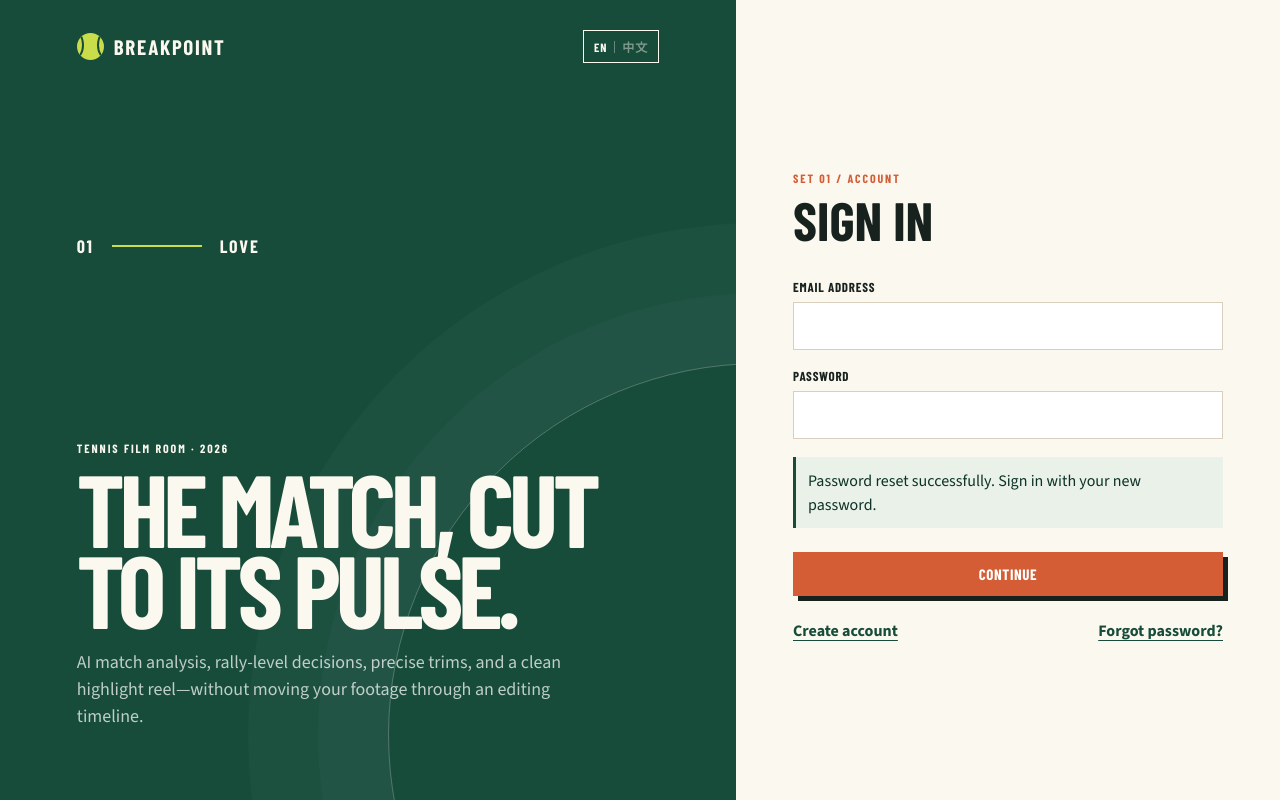
Scenario: AuthForm password confirmation › clears the success notice when sign-in starts
Type "player@example.com" into the field labelled "Email address".
click(1008, 326); type("player@example.com")  # box [793,302,1223,350]
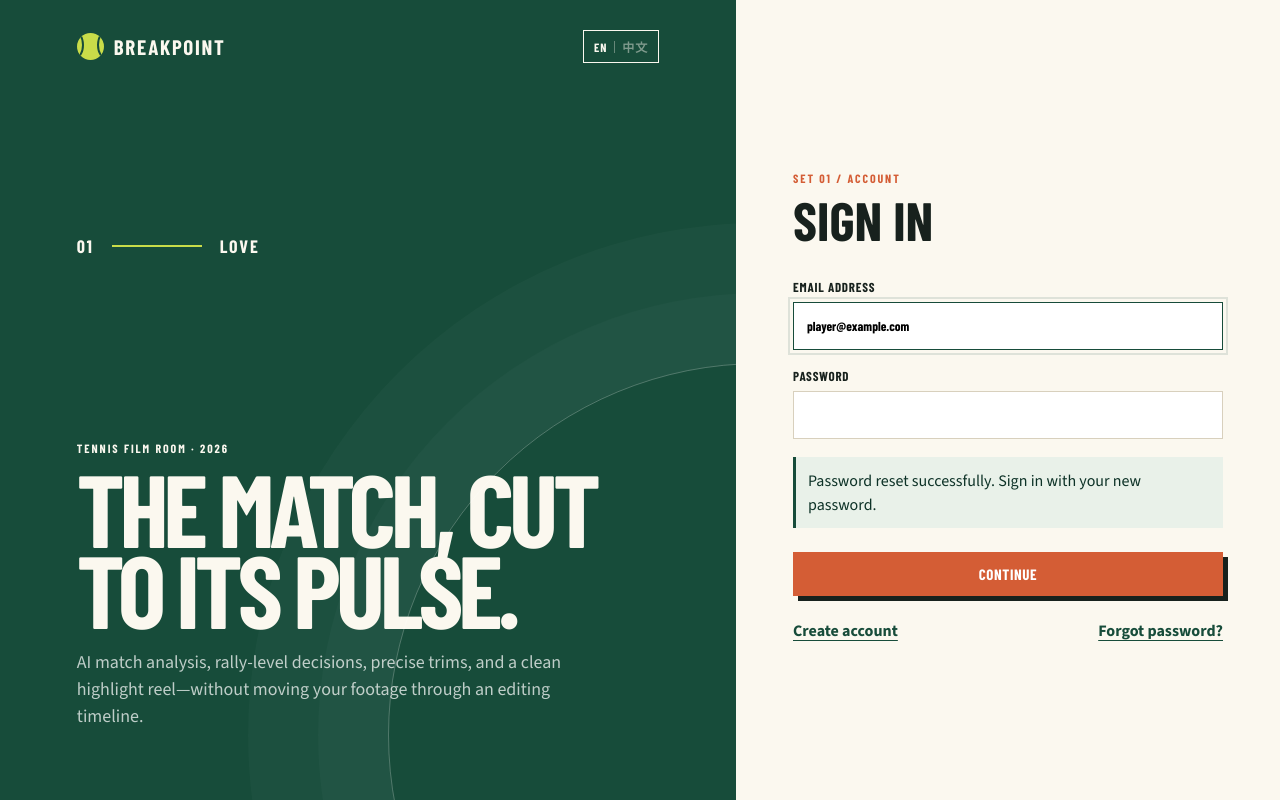
Type "password123" into the password field labelled "Password".
click(1008, 415); type("password123")  # box [793,391,1223,439]
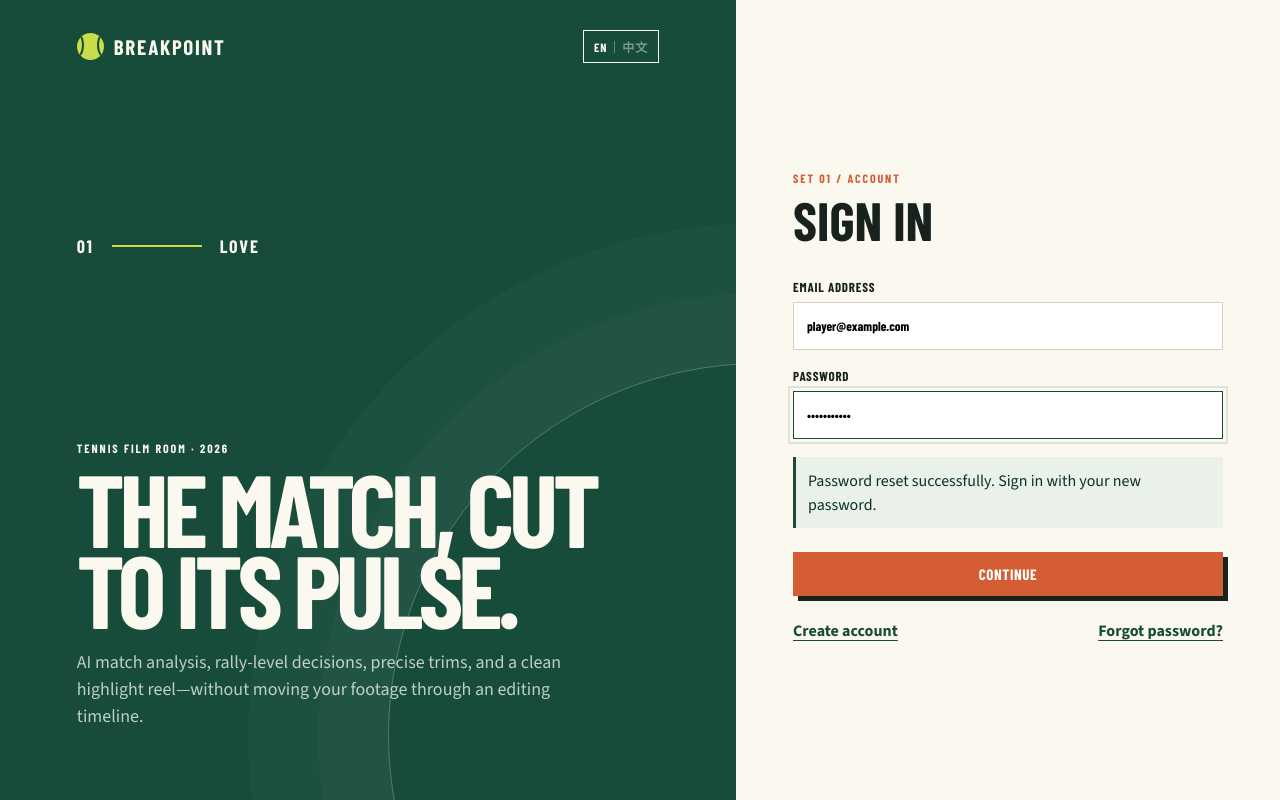
Click the button "Continue".
click(1008, 574)  # box [793,552,1223,596]
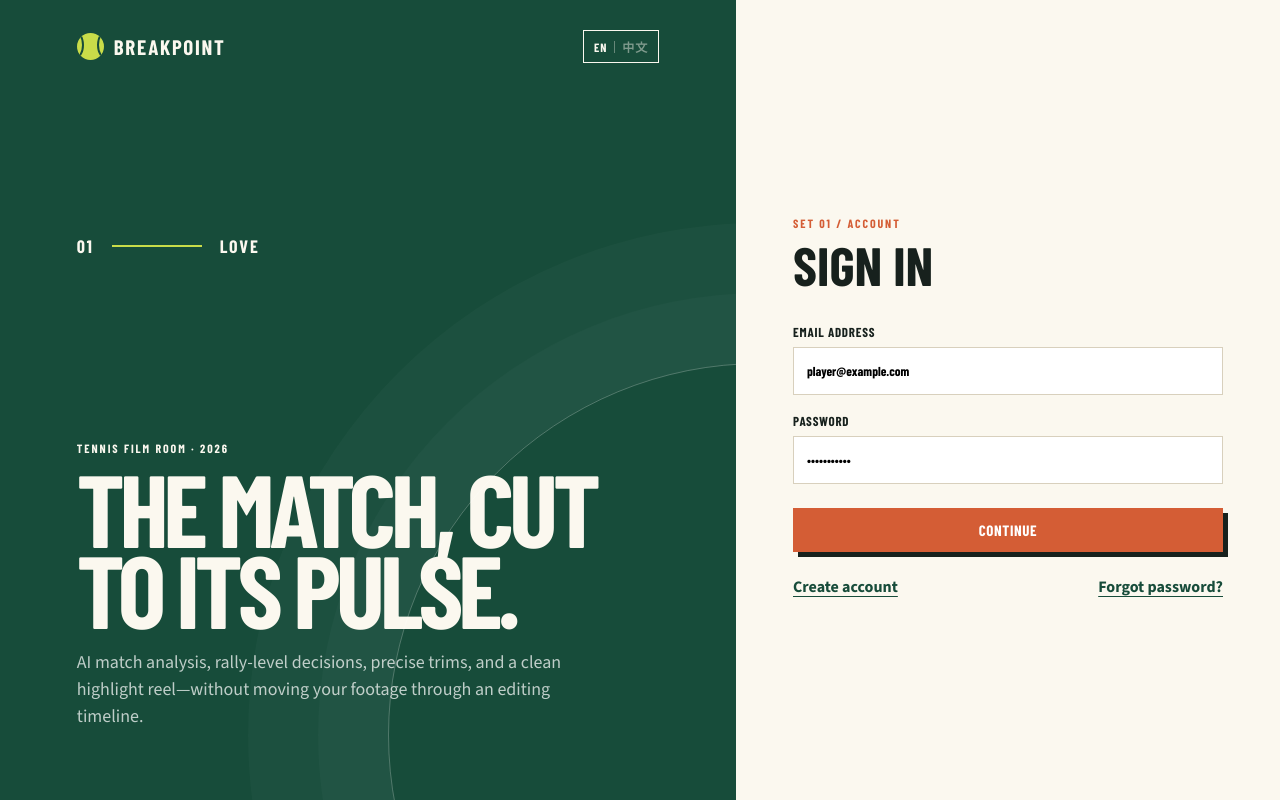
Now the text "Password reset successfully. Sign in with your new password." is gone
